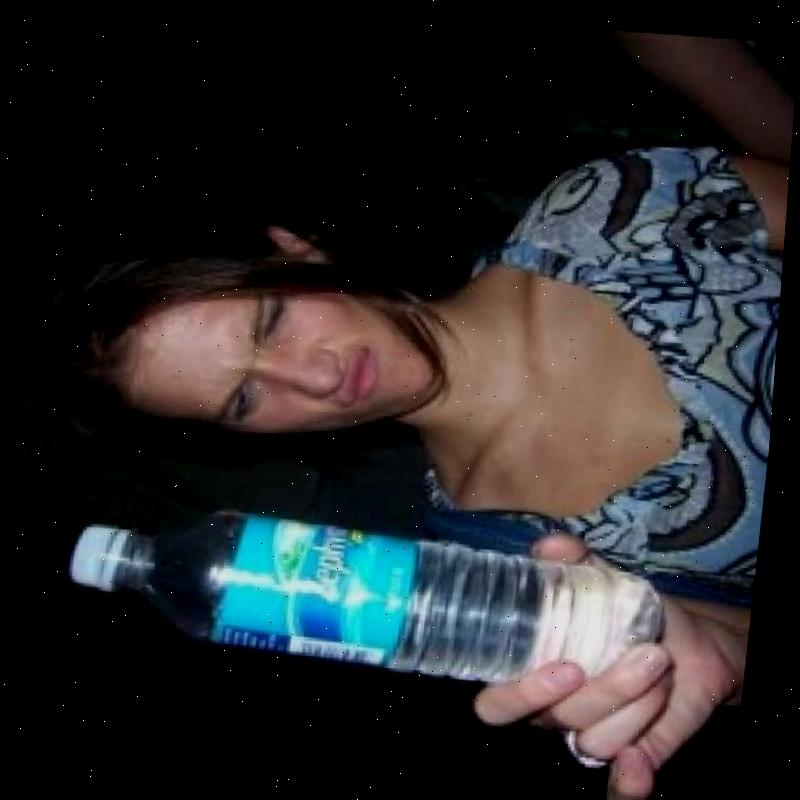botella: (70, 499, 673, 677)
